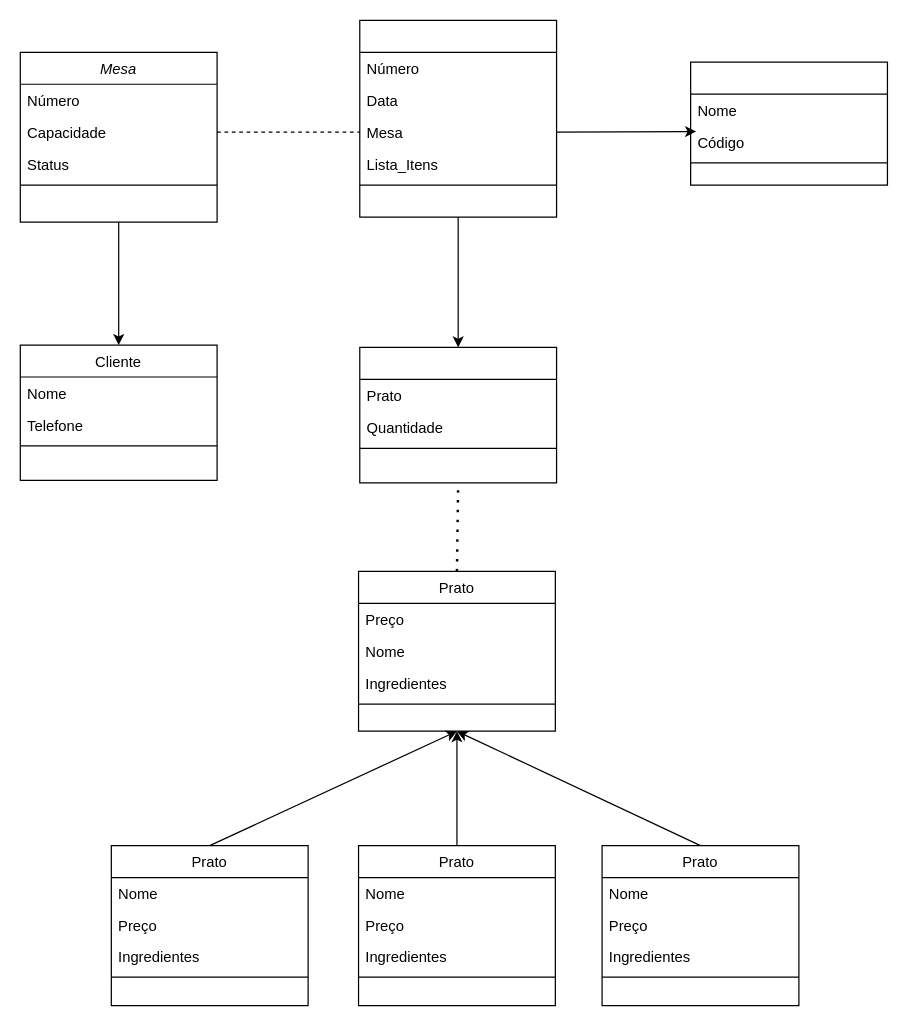
Image size: 908x1026. Some labels were removed from this diagram. The shapes that lost their labels are listed below. From the top down, each one's box as (x1, y1, x2, y2) in pixels, then its label:
(359, 19, 557, 217): Pedido
(689, 61, 887, 185): Garçom
(359, 346, 557, 483): Item_Pedido
